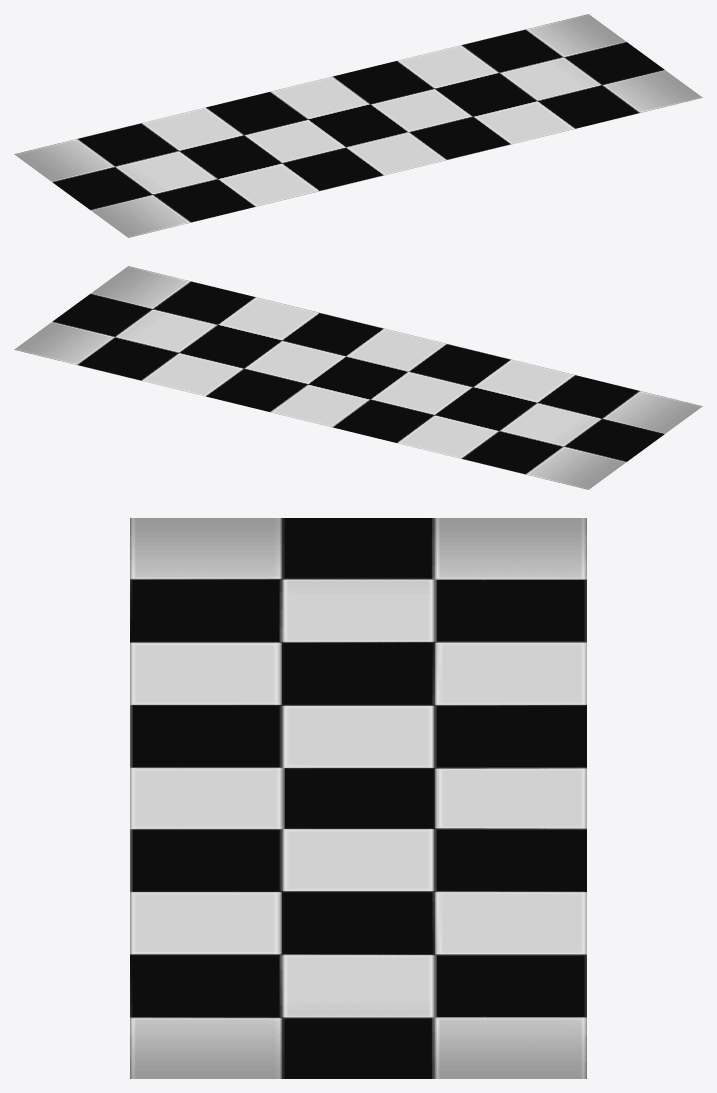
File: lu_qipan.fbx
3 renders of one model, top to bottom at view 1: azimuth 30°, elevation 25°; view 2: azimuth 150°, elevation 25°; view 3: azimuth 270°, elevation 25°, orthographic. The views are drawn at different scales.
Visible parts, largest first — view 1: cj_pipan; view 2: cj_pipan; view 3: cj_pipan.
Part boxes in pixels (bbox=[...]): cj_pipan: bbox=[14, 14, 702, 237]; cj_pipan: bbox=[14, 266, 702, 489]; cj_pipan: bbox=[130, 518, 586, 1078].
Size of the model in its own units: 4368 by 0 by 1505.
